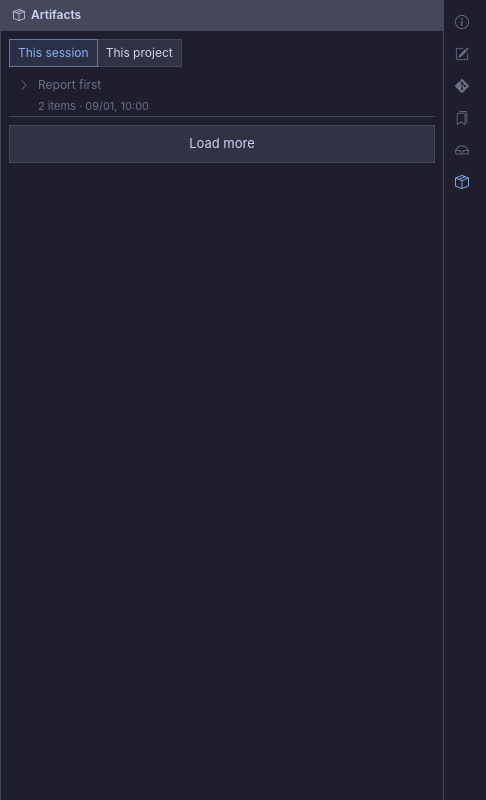
recovers a resume refresh after an older page stalls until its deadline
Click the button "Load more" at x=222, y=144, box [9,124,435,162]
Wait 15001 ms
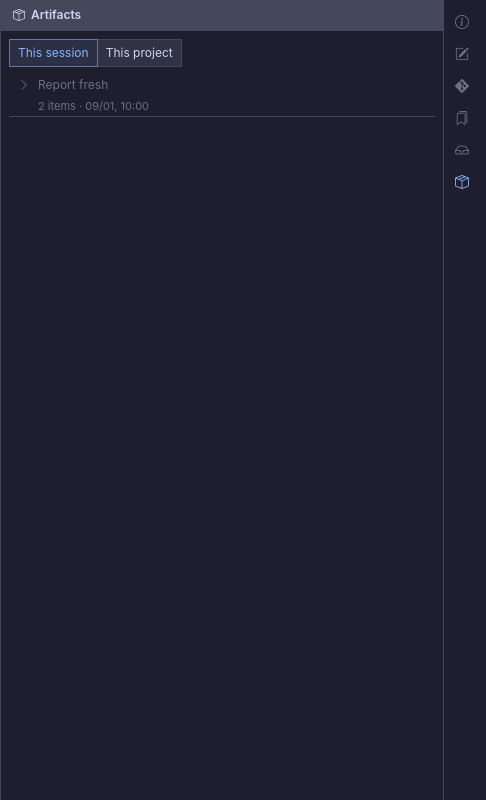
Expected: the text "Report fresh" is shown, [38,77,108,92]
